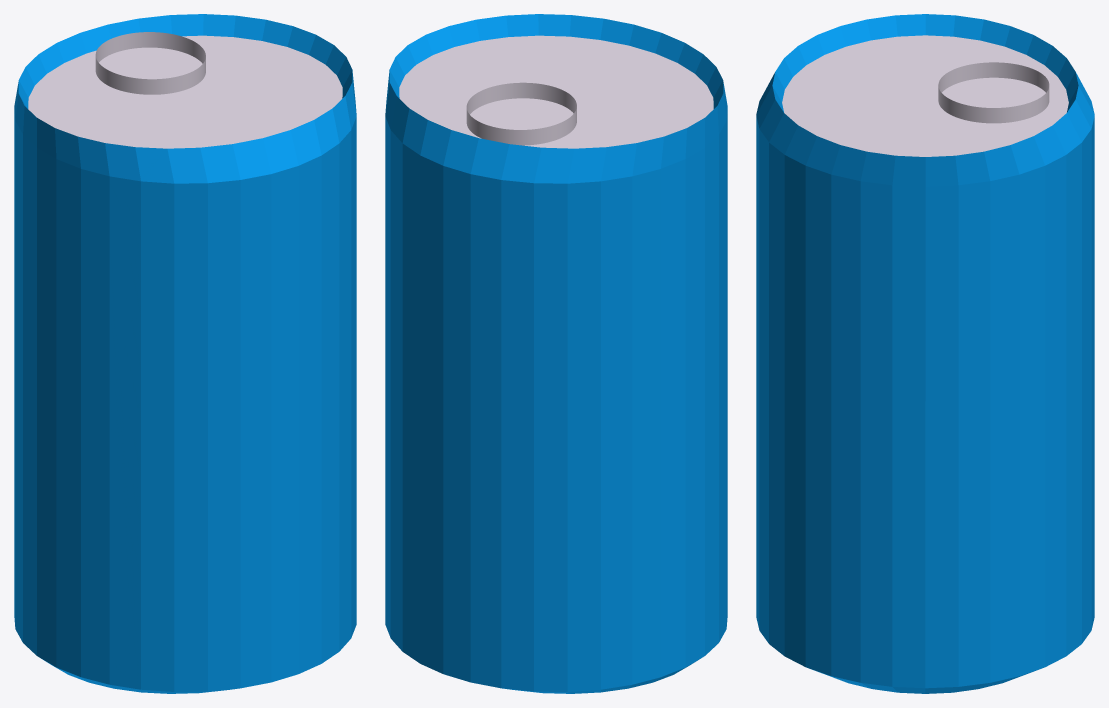
File: WaterCan.fbx
3 views of the same model, side by side, from view 1: azimuth 30°, elevation 25°; view 2: azimuth 150°, elevation 25°; view 3: azimuth 270°, elevation 25° (orthographic).
Parts seen in each view (by area): view 1: Cylinder, Cylinder.001, BézierCircle; view 2: Cylinder, Cylinder.001, BézierCircle; view 3: Cylinder, Cylinder.001, BézierCircle.
Boxes of the visible parts, x1,y1,x2,y2 form: Cylinder: (14, 14, 356, 693); Cylinder.001: (28, 35, 342, 148); BézierCircle: (95, 32, 205, 94); Cylinder: (385, 14, 727, 693); Cylinder.001: (399, 35, 713, 148); BézierCircle: (466, 82, 576, 145); Cylinder: (756, 14, 1094, 693); Cylinder.001: (782, 35, 1068, 156); BézierCircle: (938, 62, 1049, 123).
Bounding box in the file's own units: 200 × 355 × 200.
